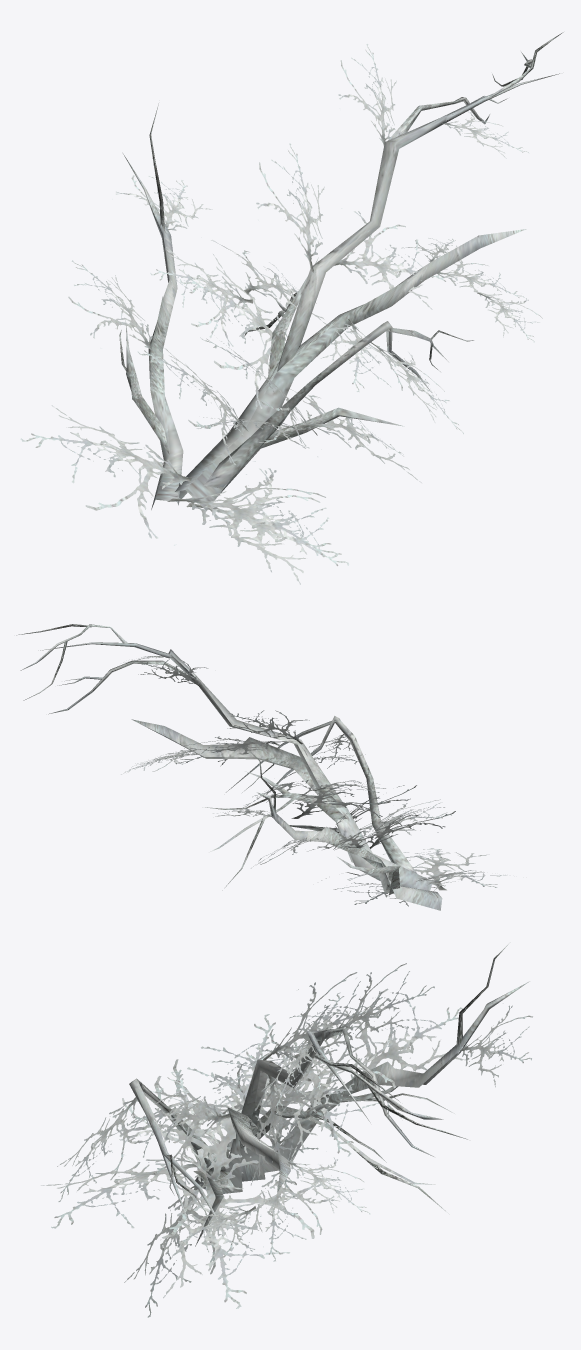
File: S_Tree_White001_2.FBX
The picture shows the model from 3 angles, top to bottom: view 1: azimuth 30°, elevation 25°; view 2: azimuth 150°, elevation 25°; view 3: azimuth 270°, elevation 25°; orthographic projection. The views are drawn at different scales.
Visible parts, largest first — view 1: S_Tree_White001_2; view 2: S_Tree_White001_2; view 3: S_Tree_White001_2.
Part boxes in pixels (x1=…): S_Tree_White001_2: x1=20, y1=32, x2=563, y2=584; S_Tree_White001_2: x1=16, y1=624, x2=506, y2=910; S_Tree_White001_2: x1=41, y1=942, x2=532, y2=1317.
Size of the model in its own units: 921 by 643 by 579.
